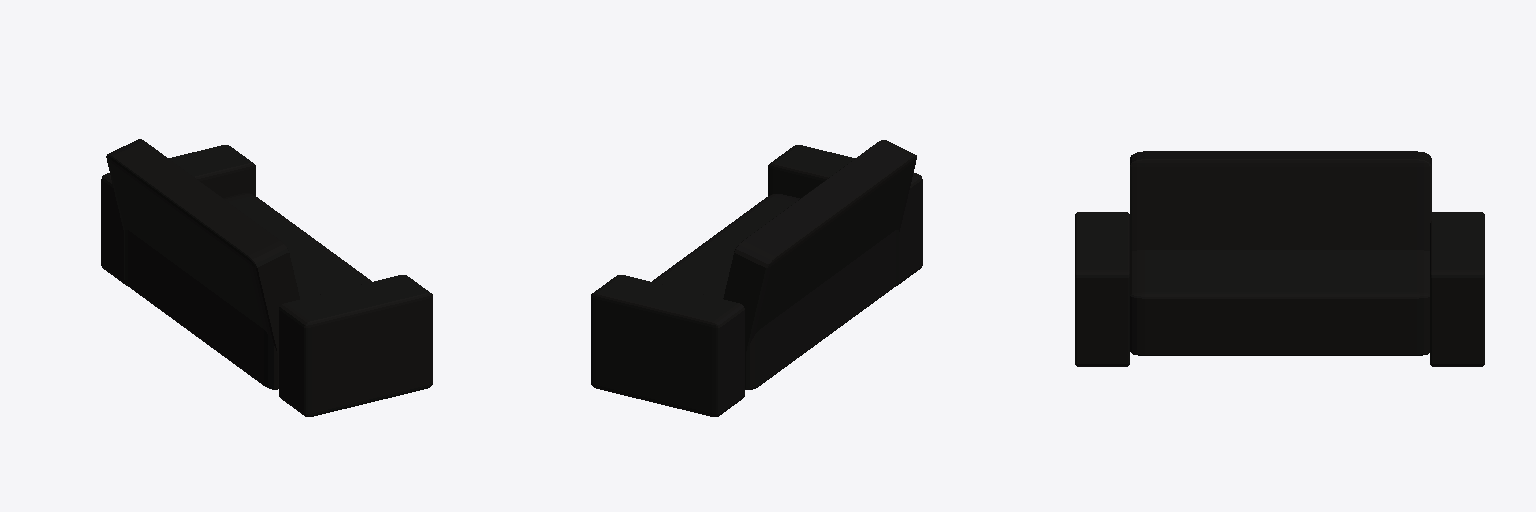
Rendered from couch.obj.
3 views of the same model, side by side, from view 1: azimuth 30°, elevation 25°; view 2: azimuth 150°, elevation 25°; view 3: azimuth 270°, elevation 25° (orthographic).
Visible parts, largest first — view 1: Cube.001_Cube.005; view 2: Cube.001_Cube.005; view 3: Cube.001_Cube.005.
Part boxes in pixels (bbox=[...]): Cube.001_Cube.005: bbox=[101, 139, 432, 416]; Cube.001_Cube.005: bbox=[591, 140, 922, 416]; Cube.001_Cube.005: bbox=[1075, 151, 1484, 366].
Bounding box in the file's own units: 2.35 × 2.24 × 5.5.